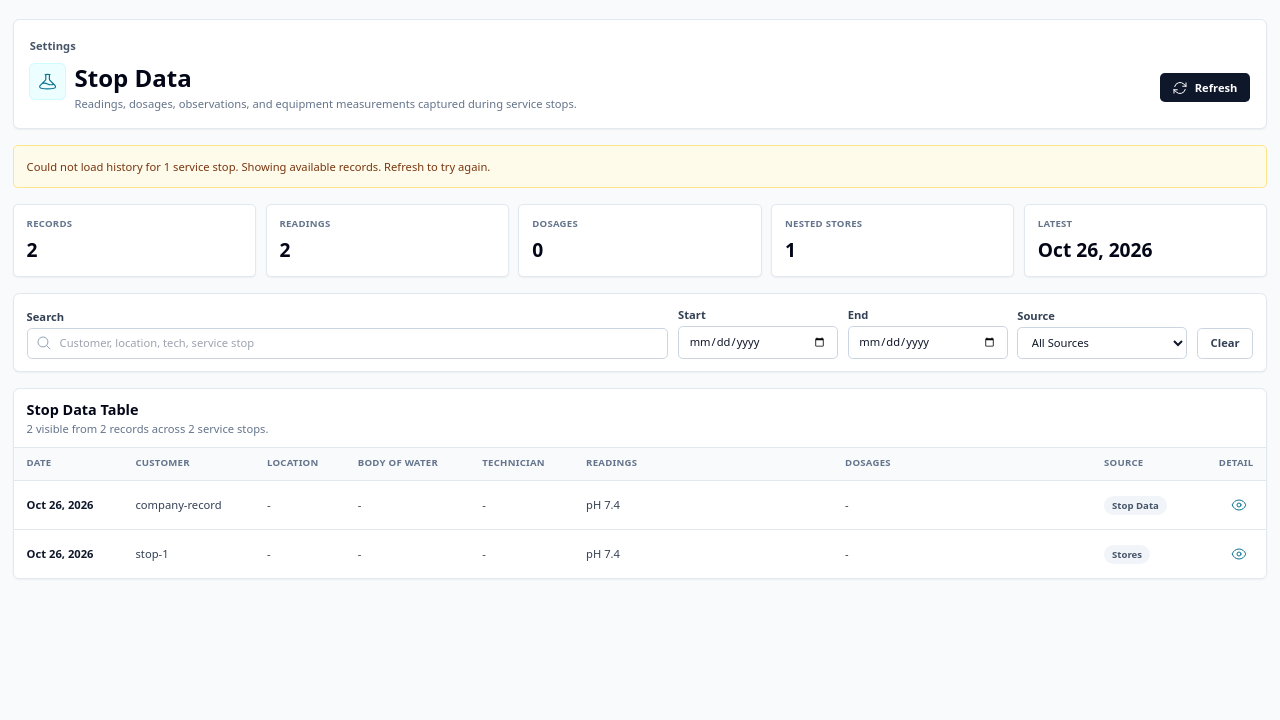
Test: a failed store shows a warning, preserves available records, and can be refreshed
This screenshot has width=1280, height=720.
Expected: the message shows "Could not load history for 1 service stop.", x1=27 y1=159 x2=490 y2=174
Expected: the text "2 visible from 2 records across 2 service stops." is shown, x1=27 y1=421 x2=268 y2=437
Click the button "Refresh". click: (1205, 88)
box: x1=1160 y1=73 x2=1250 y2=102
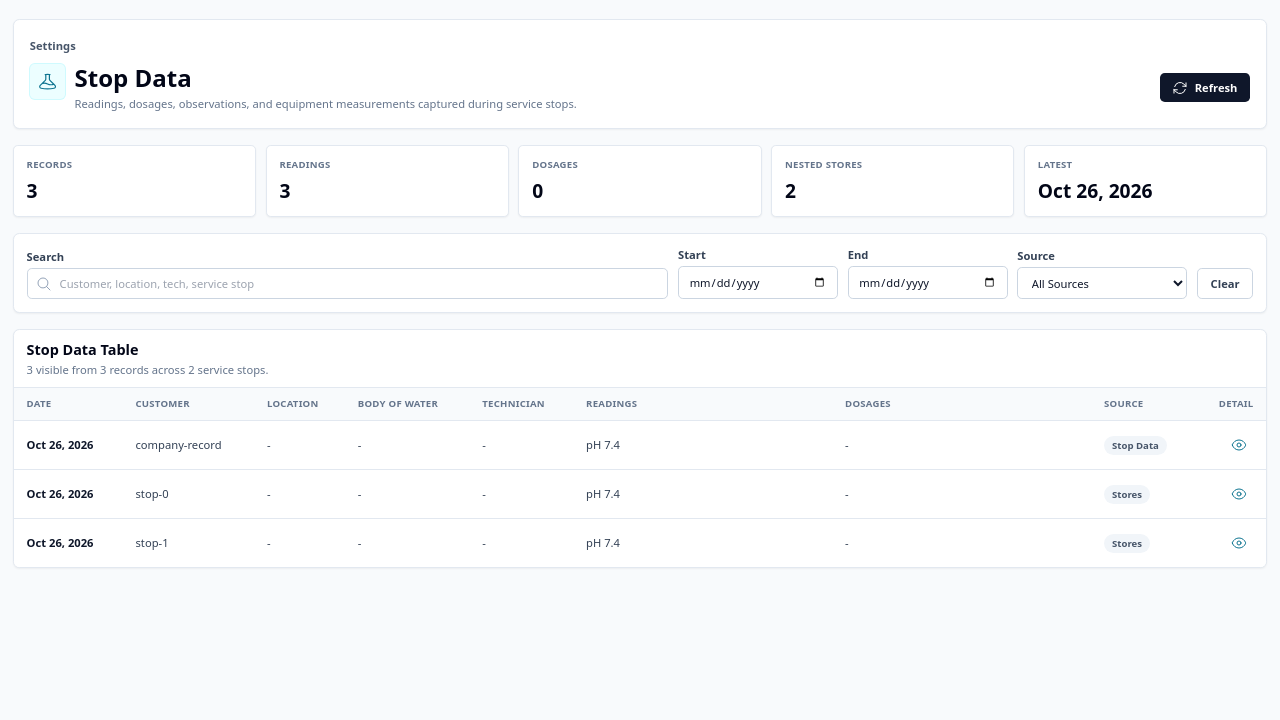
Result: the text "3 visible from 3 records across 2 service stops." is shown at x1=27 y1=362 x2=268 y2=378
Result: the message is gone
